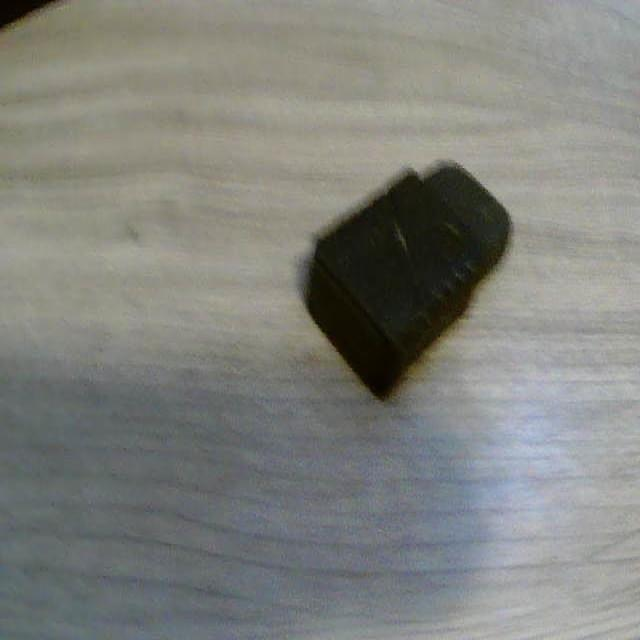borracha: (289, 138, 537, 408)
